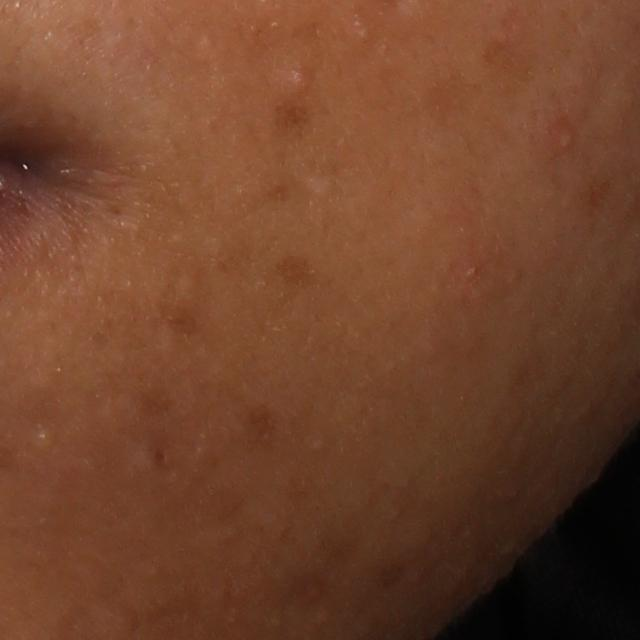comedo: (35, 421, 55, 450), (351, 21, 374, 43)
